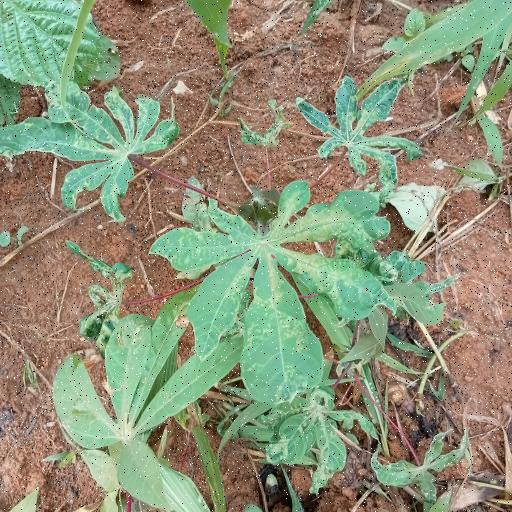Cassava_Mosaic: (166, 198, 392, 400), (8, 87, 173, 216), (301, 81, 425, 182), (276, 392, 350, 484)
